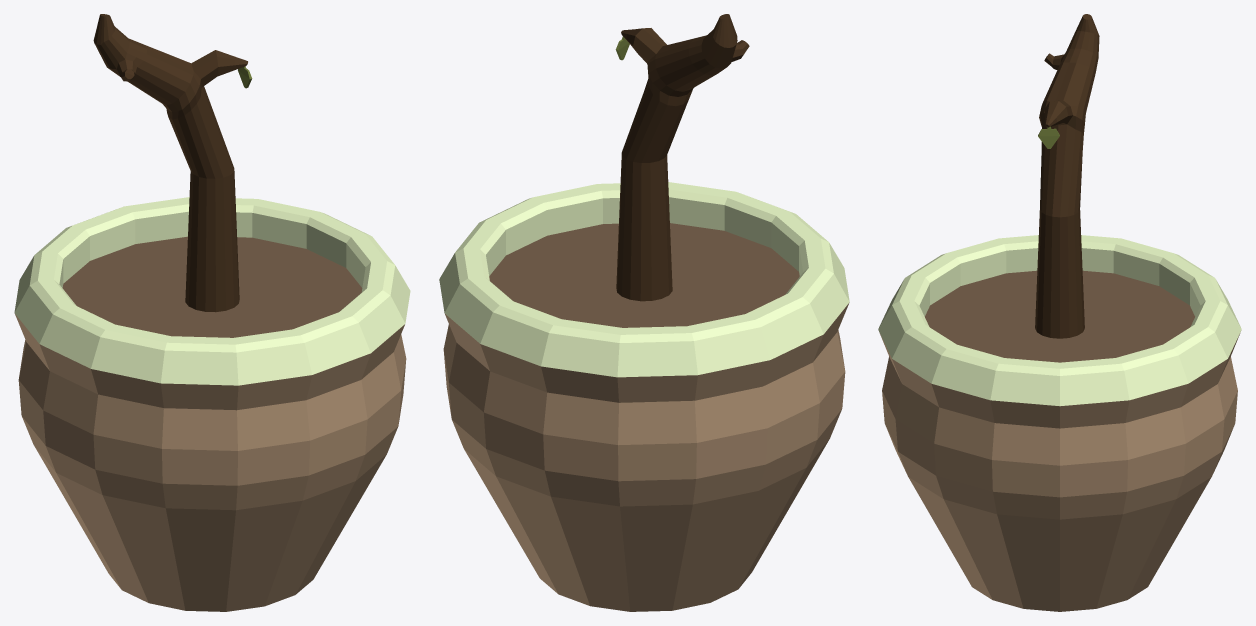
File: Dead Plant.fbx
3 renders of one model, left to right at view 1: azimuth 30°, elevation 25°; view 2: azimuth 150°, elevation 25°; view 3: azimuth 270°, elevation 25°, orthographic. The views are drawn at different scales.
Visible parts, largest first — view 1: Dead Plant; view 2: Dead Plant; view 3: Dead Plant.
Part boxes in pixels (x1,y1,x2,y2): Dead Plant: (14,14,410,611); Dead Plant: (439,14,849,611); Dead Plant: (878,14,1241,611).
Bounding box in the file's own units: 298 × 465 × 298.
